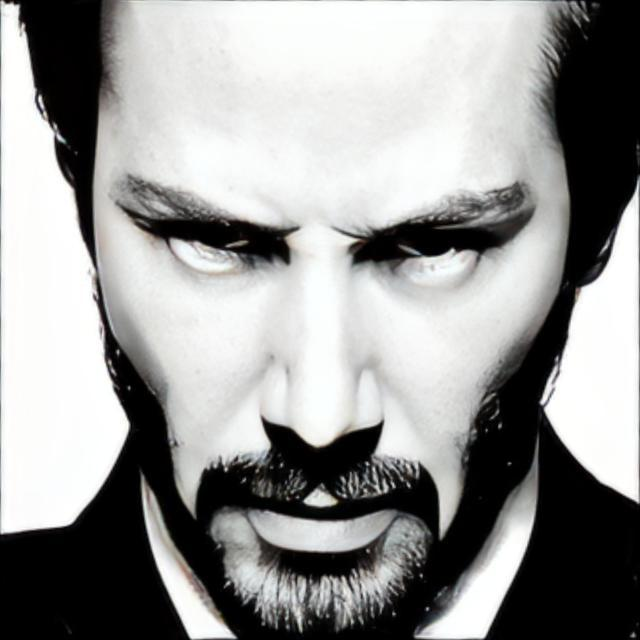anger: (108, 0, 562, 640)
